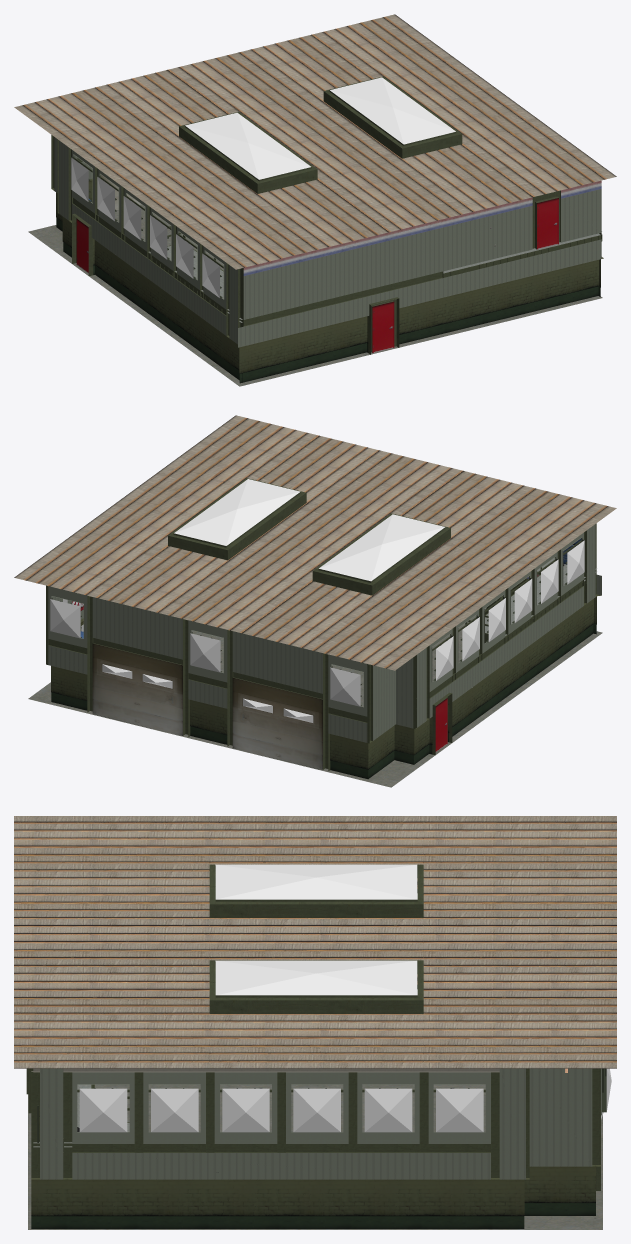
Rendered from Garage.fbx.
3 renders of one model, top to bottom at view 1: azimuth 30°, elevation 25°; view 2: azimuth 150°, elevation 25°; view 3: azimuth 270°, elevation 25°, orthographic. The views are drawn at different scales.
Parts seen in each view (by area): view 1: Garage_Walls, Bloom, Garage_Floor; view 2: Garage_Walls, Bloom, Garage_Floor; view 3: Garage_Walls, Bloom, Garage_Floor.
Boxes of the visible parts, x1=… form: Garage_Walls: x1=14, y1=14, x2=616, y2=383; Bloom: x1=71, y1=77, x2=455, y2=297; Garage_Floor: x1=28, y1=204, x2=602, y2=386; Garage_Walls: x1=14, y1=415, x2=616, y2=779; Bloom: x1=50, y1=479, x2=584, y2=722; Garage_Floor: x1=28, y1=607, x2=602, y2=787; Garage_Walls: x1=14, y1=816, x2=616, y2=1228; Bloom: x1=79, y1=864, x2=611, y2=1132; Garage_Floor: x1=28, y1=1084, x2=602, y2=1229.
Size of the model in its own units: 1638 by 568 by 1651.
